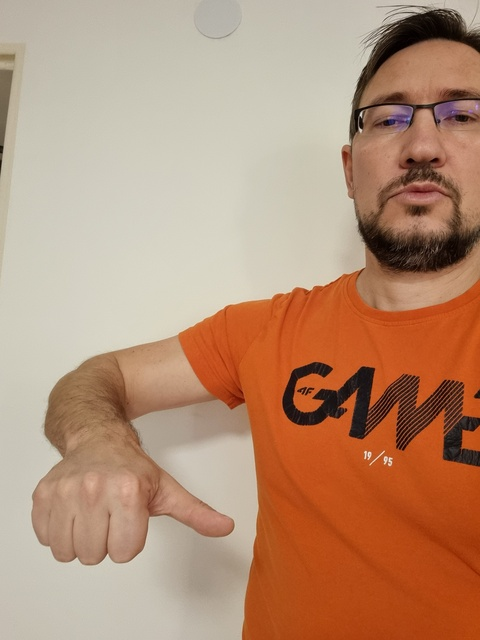GestBack: (31, 467, 236, 567)
